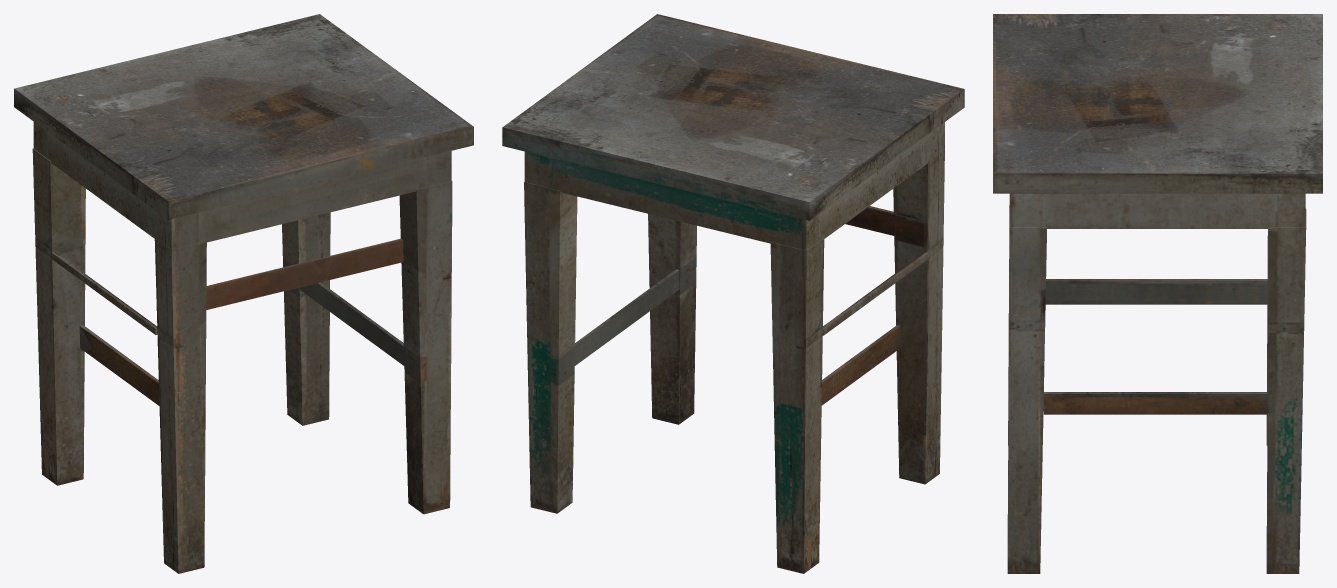
The model's file is OU_AR_Wooden_Chair_01_D.fbx.
3 views of the same model, side by side, from view 1: azimuth 30°, elevation 25°; view 2: azimuth 150°, elevation 25°; view 3: azimuth 270°, elevation 25° (orthographic). The views are drawn at different scales.
Parts seen in each view (by area): view 1: Box1657; view 2: Box1657; view 3: Box1657.
Part boxes in pixels (x1,y1,x2,y2): Box1657: (14,14,473,573); Box1657: (502,14,964,573); Box1657: (993,14,1322,573).
Size of the model in its own units: 49.26 by 58.82 by 42.99.
1 material, 1 textured.
